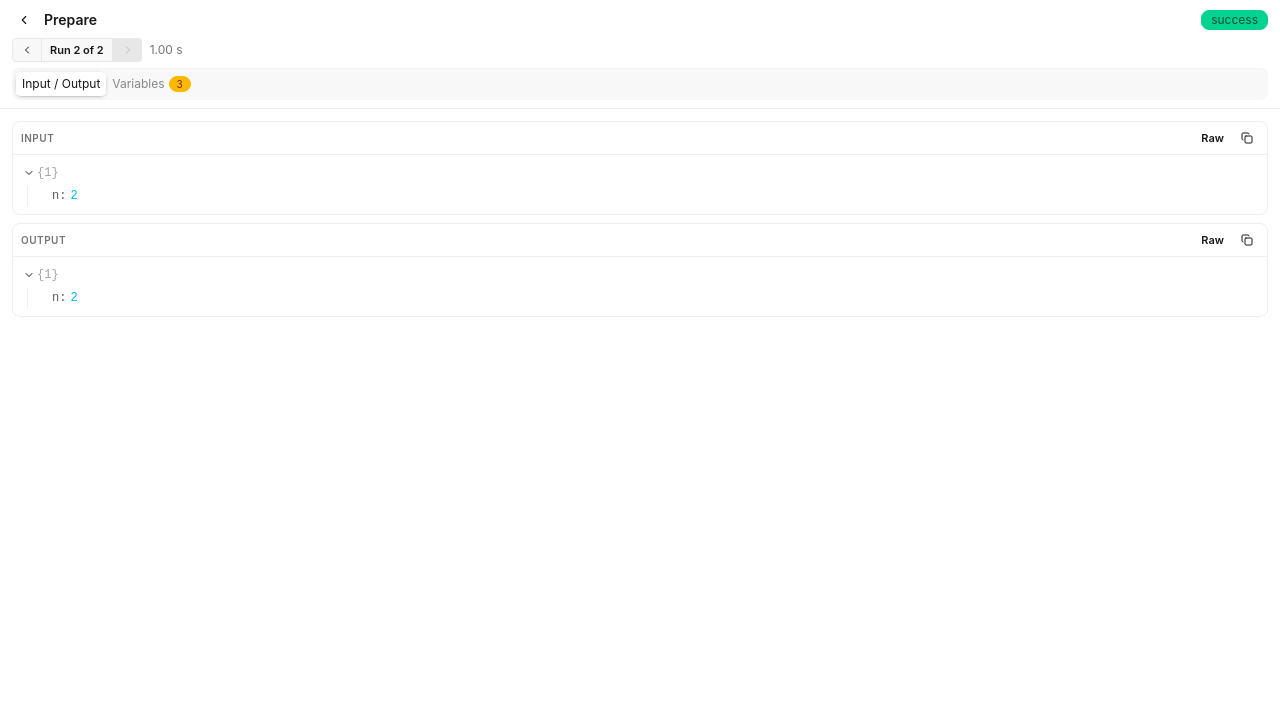
it: RunInspector › lists the variables a task changed
Click the tab "Variables 3".
click(152, 84)  # box [106, 72, 197, 96]
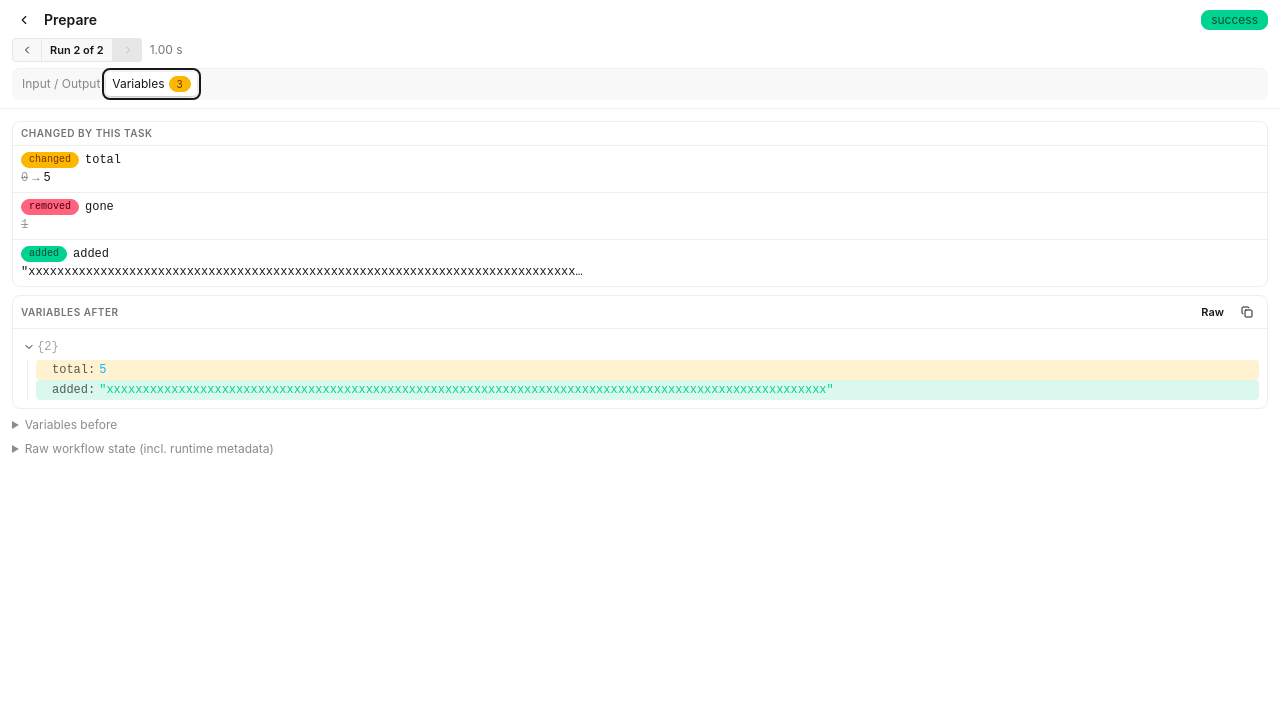
Check: the heading "Changed by this task" is shown, box [21, 127, 152, 139]
Click the heading "Raw workflow state (incl. runtime metadata)".
click(149, 448)  # box [25, 441, 274, 456]
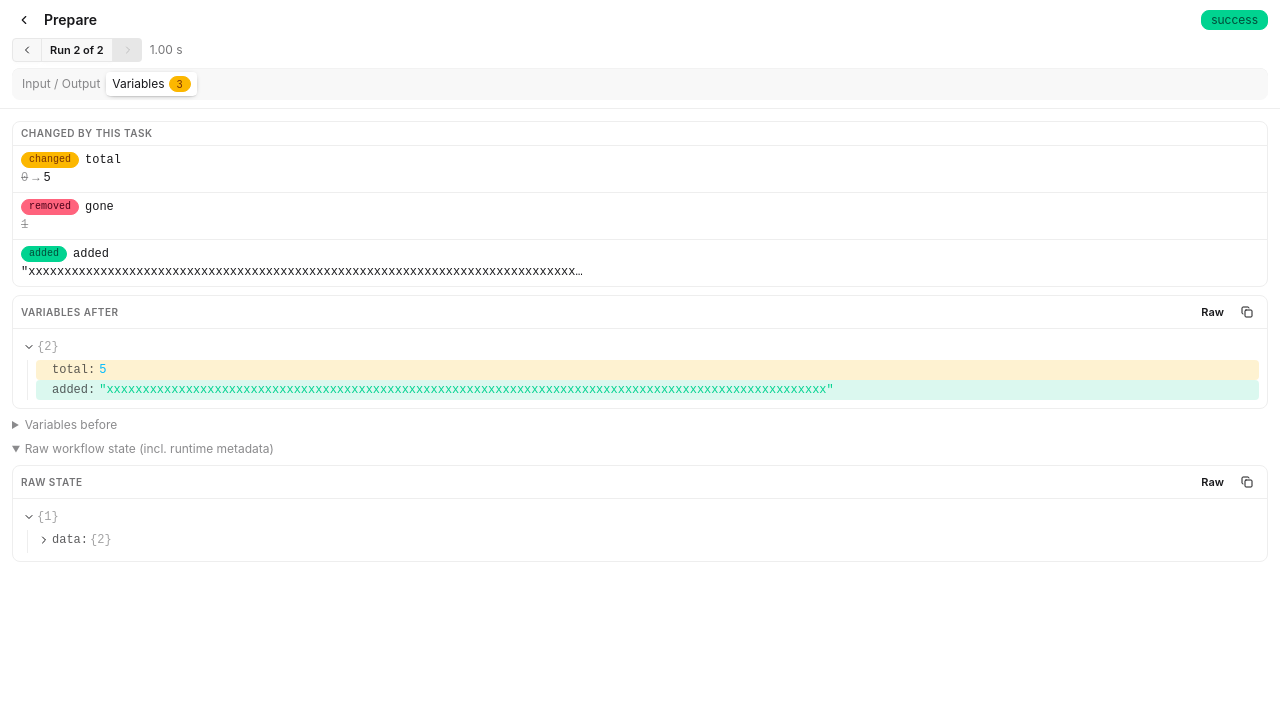
Check: the heading "Raw state" is shown, box [21, 474, 83, 490]
Click the tab "Input / Output".
click(61, 84)  # box [16, 72, 106, 96]
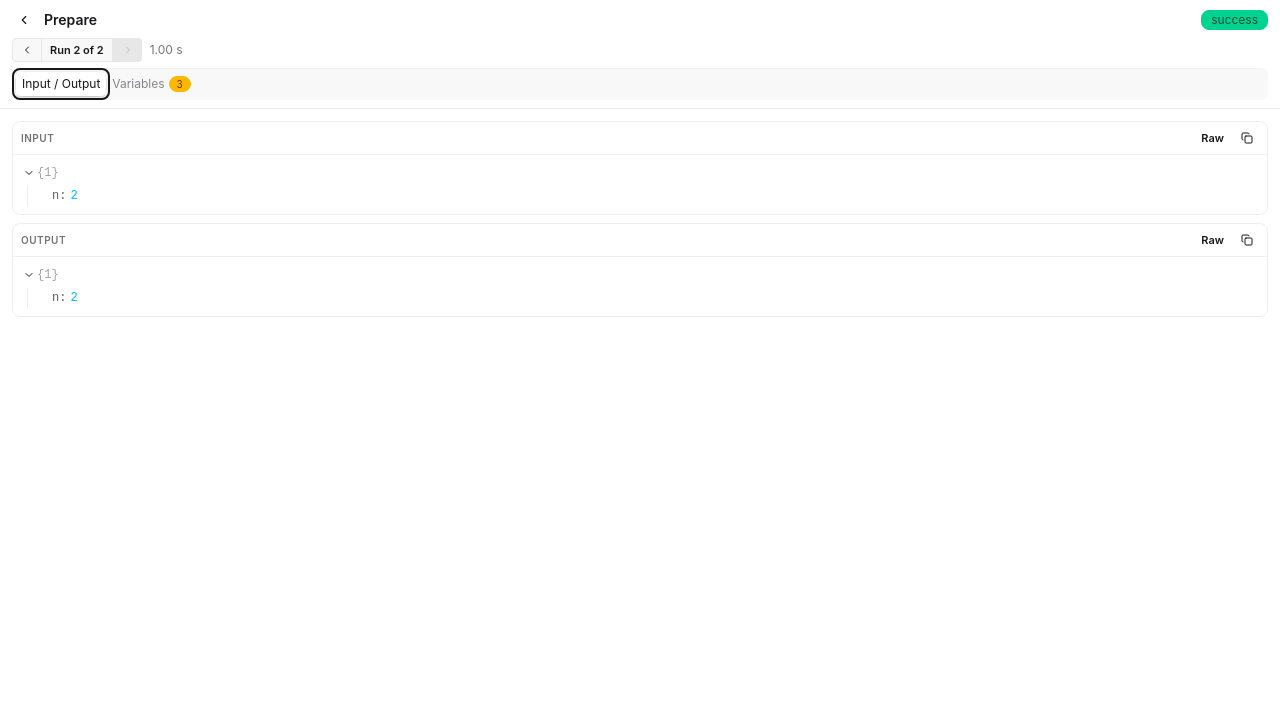
Check: the heading "Input" is shown, box [21, 130, 54, 146]
